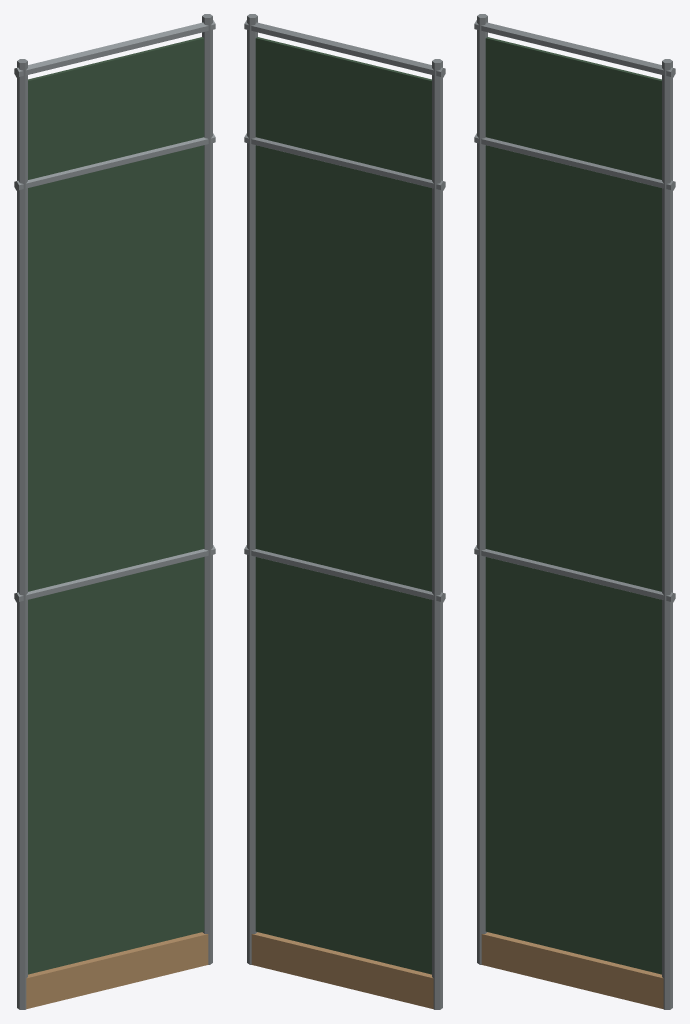
File: prop_scaffold_bay_w100_h460.glb
3 views of the same model, side by side, from view 1: azimuth 30°, elevation 25°; view 2: azimuth 150°, elevation 25°; view 3: azimuth 330°, elevation 25° (orthographic).
Parts seen in each view (by area): view 1: Body; view 2: Body; view 3: Body.
Part boxes in pixels (x1=…): Body: x1=14, y1=14, x2=215, y2=1009; Body: x1=244, y1=14, x2=445, y2=1009; Body: x1=474, y1=14, x2=675, y2=1009.
Bounding box in the file's own units: 1 × 4.6 × 0.048.
